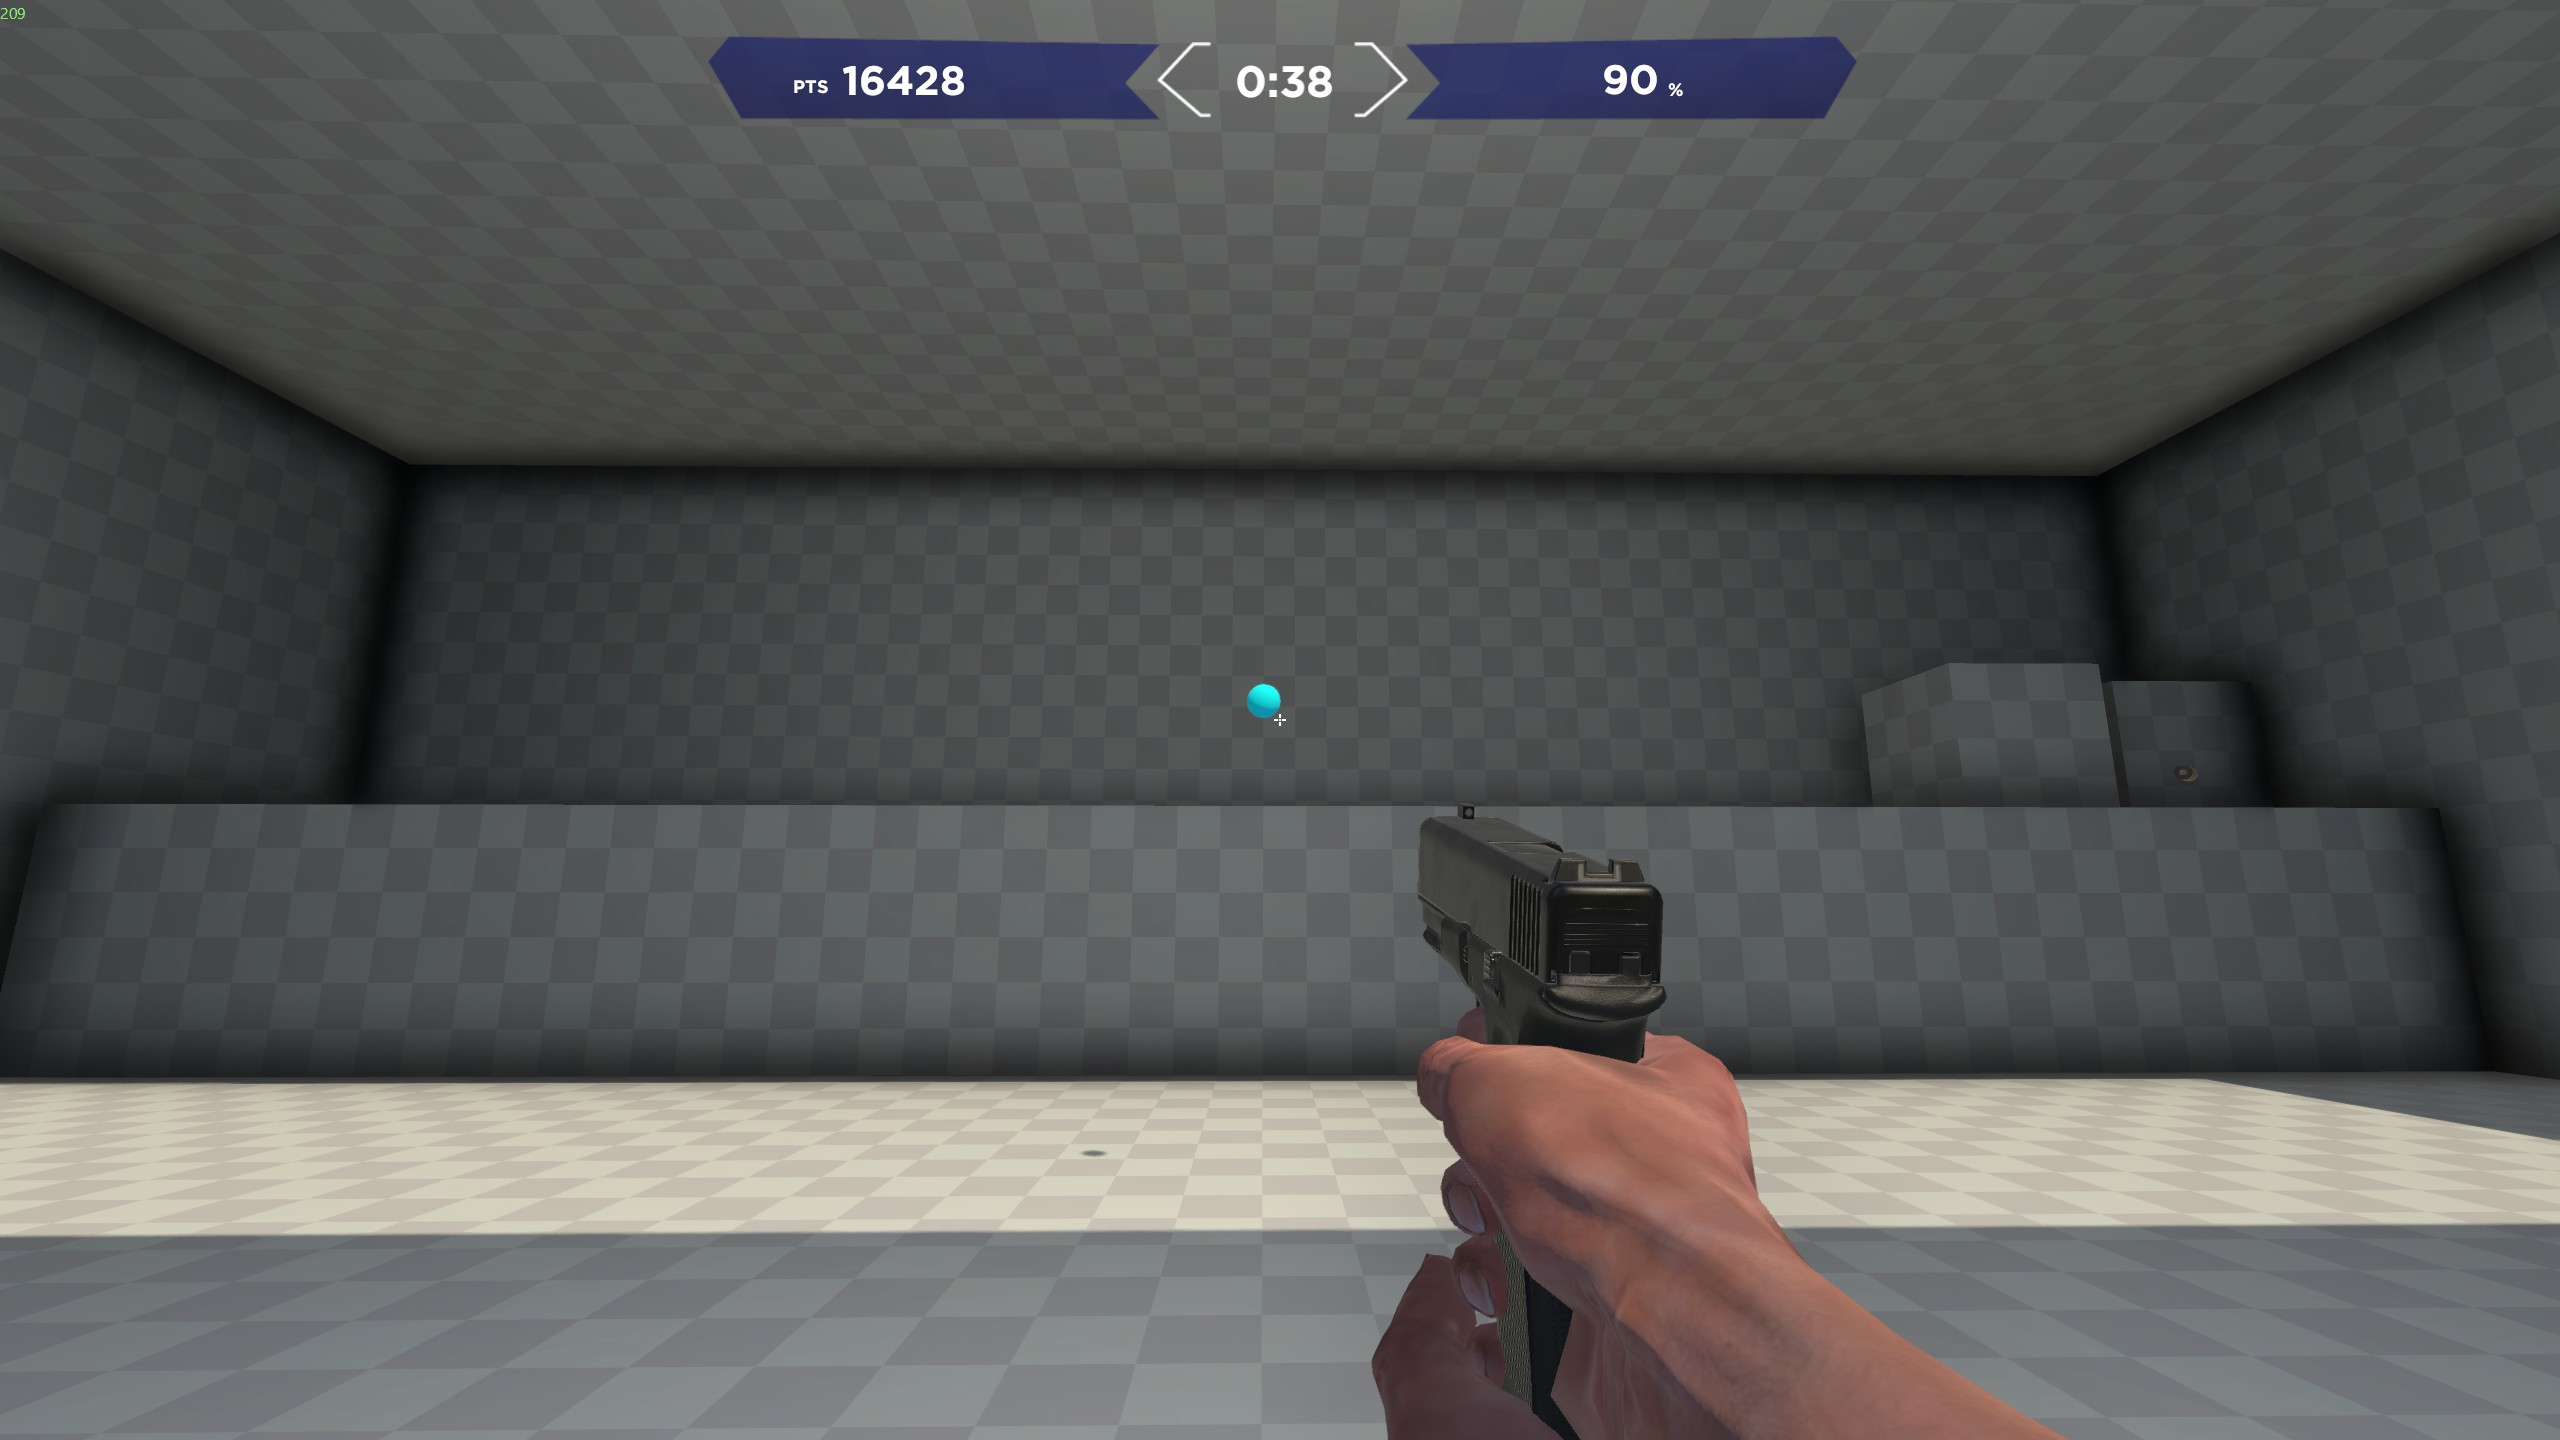Target: (1241, 682, 1284, 721)
